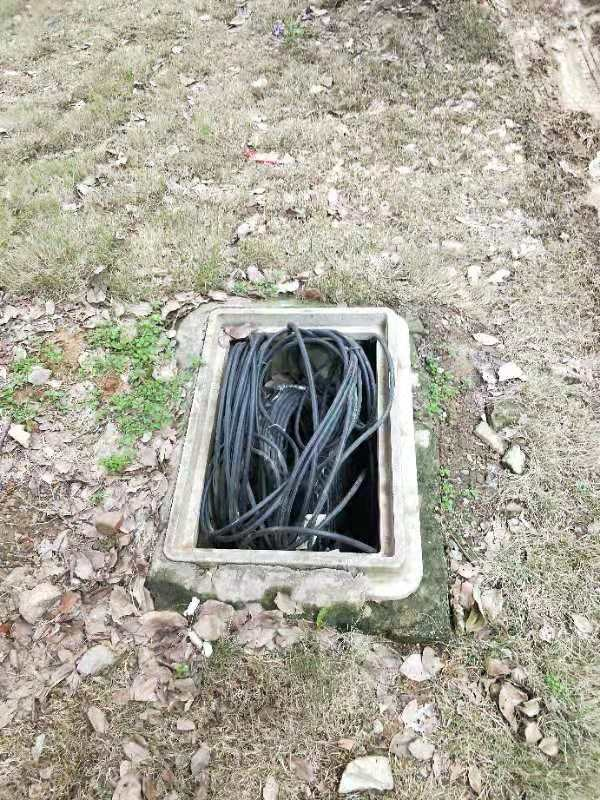well: (153, 299, 422, 579)
